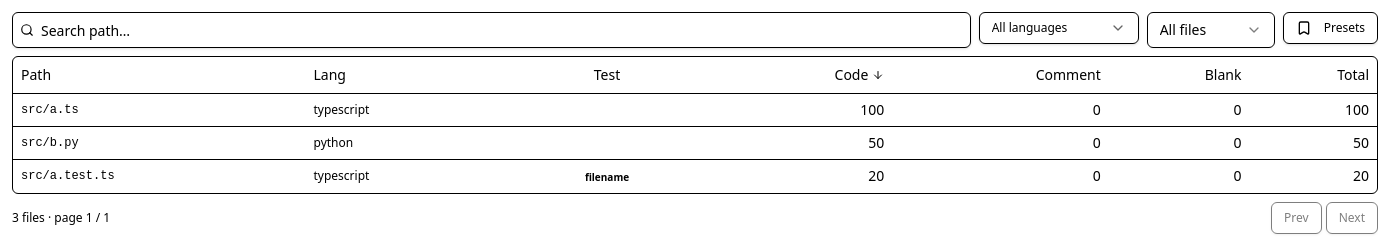
Test: fileTable › filters by search query
In the field with placeholder "Search path…": (491, 30) [12,12,971,48], type "b.py"
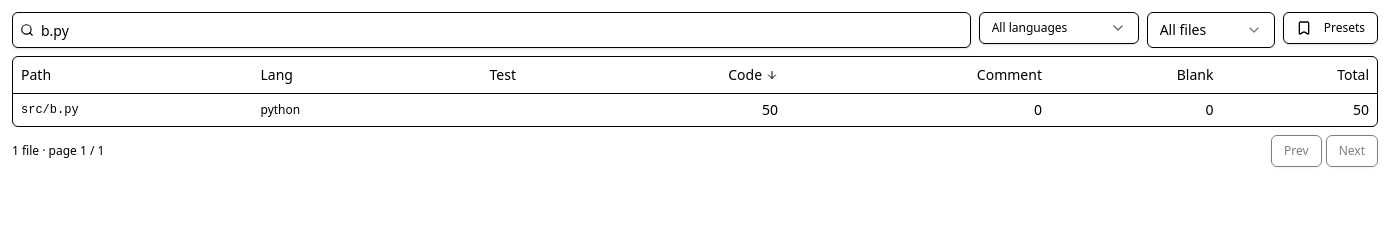
Expected: the text "src/b.py" is shown, [13,93,252,126]
Result: the text "src/a.ts" is gone
